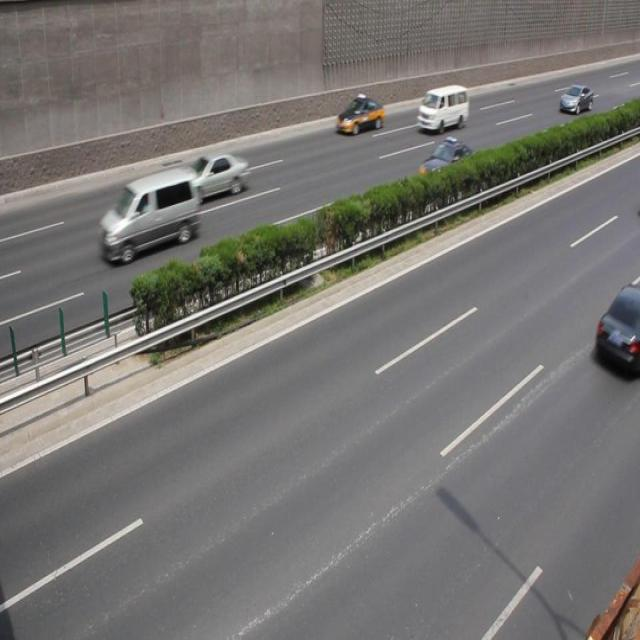car: (593, 280, 640, 377), (181, 152, 249, 204), (418, 139, 479, 192), (337, 96, 382, 135), (559, 82, 592, 115)
truck: (98, 164, 199, 263), (416, 84, 467, 134)
